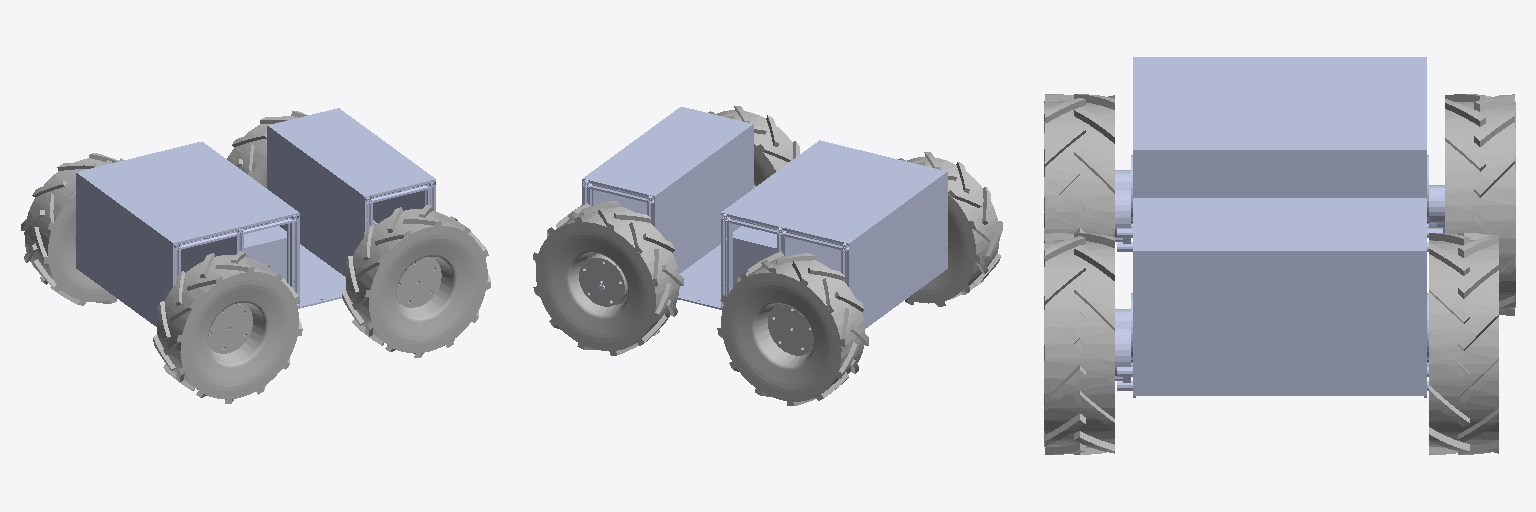
robot.urdf — ROVER_1000_WATT_VARIANT.SLDASM:
<?xml version="1.0" encoding="utf-8"?>
<!-- This URDF was automatically created by SolidWorks to URDF Exporter! Originally created by Stephen Brawner (brawner@gmail.com) 
     Commit Version: 1.6.0-4-g7f85cfe  Build Version: 1.6.7995.38578
     For more information, please see http://wiki.ros.org/sw_urdf_exporter -->
<robot
  name="ROVER_1000_WATT_VARIANT.SLDASM">
  <link
    name="base_link">
    <inertial>
      <origin
        xyz="0.015653 -0.00010987 0.10818"
        rpy="0 0 0" />
      <mass
        value="37.356" />
      <inertia
        ixx="0.32771"
        ixy="-0.00081538"
        ixz="3.24E-06"
        iyy="0.31465"
        iyz="-5.0701E-05"
        izz="0.57188" />
    </inertial>
    <visual>
      <origin
        xyz="0 0 0"
        rpy="0 0 0" />
      <geometry>
        <mesh
          filename="package://ROVER_1000_WATT_VARIANT.SLDASM/meshes/base_link.STL" />
      </geometry>
      <material
        name="">
        <color
          rgba="0.79216 0.81961 0.93333 1" />
      </material>
    </visual>
    <collision>
      <origin
        xyz="0 0 0"
        rpy="0 0 0" />
      <geometry>
        <mesh
          filename="package://ROVER_1000_WATT_VARIANT.SLDASM/meshes/base_link.STL" />
      </geometry>
    </collision>
  </link>
  <link
    name="link_back_left">
    <inertial>
      <origin
        xyz="-5.0352E-06 -0.0024212 6.385E-06"
        rpy="0 0 0" />
      <mass
        value="5.0741" />
      <inertia
        ixx="0.036669"
        ixy="-2.5769E-07"
        ixz="-1.9301E-07"
        iyy="0.066215"
        iyz="3.2639E-07"
        izz="0.036669" />
    </inertial>
    <visual>
      <origin
        xyz="0 0 0"
        rpy="0 0 0" />
      <geometry>
        <mesh
          filename="package://ROVER_1000_WATT_VARIANT.SLDASM/meshes/link_back_left.STL" />
      </geometry>
      <material
        name="">
        <color
          rgba="0.75294 0.75294 0.75294 1" />
      </material>
    </visual>
    <collision>
      <origin
        xyz="0 0 0"
        rpy="0 0 0" />
      <geometry>
        <mesh
          filename="package://ROVER_1000_WATT_VARIANT.SLDASM/meshes/link_back_left.STL" />
      </geometry>
    </collision>
  </link>
  <joint
    name="joint_back_left"
    type="continuous">
    <origin
      xyz="-0.25156 0.30851 0.037363"
      rpy="0 0 0" />
    <parent
      link="base_link" />
    <child
      link="link_back_left" />
    <axis
      xyz="0 1 0" />
  </joint>
  <link
    name="link_back_right">
    <inertial>
      <origin
        xyz="8.1206E-06 0.0024212 4.2036E-07"
        rpy="0 0 0" />
      <mass
        value="5.0741" />
      <inertia
        ixx="0.036669"
        ixy="-4.1531E-07"
        ixz="1.718E-08"
        iyy="0.066215"
        iyz="-2.1256E-08"
        izz="0.036669" />
    </inertial>
    <visual>
      <origin
        xyz="0 0 0"
        rpy="0 0 0" />
      <geometry>
        <mesh
          filename="package://ROVER_1000_WATT_VARIANT.SLDASM/meshes/link_back_right.STL" />
      </geometry>
      <material
        name="">
        <color
          rgba="0.75294 0.75294 0.75294 1" />
      </material>
    </visual>
    <collision>
      <origin
        xyz="0 0 0"
        rpy="0 0 0" />
      <geometry>
        <mesh
          filename="package://ROVER_1000_WATT_VARIANT.SLDASM/meshes/link_back_right.STL" />
      </geometry>
    </collision>
  </link>
  <joint
    name="joint_back_right"
    type="continuous">
    <origin
      xyz="-0.25156 -0.30851 0.037363"
      rpy="0 0 0" />
    <parent
      link="base_link" />
    <child
      link="link_back_right" />
    <axis
      xyz="0 1 0" />
  </joint>
  <link
    name="link_front_right">
    <inertial>
      <origin
        xyz="3.603E-06 0.0024212 7.2897E-06"
        rpy="0 0 0" />
      <mass
        value="5.0741" />
      <inertia
        ixx="0.036669"
        ixy="-1.8448E-07"
        ixz="1.5903E-07"
        iyy="0.066215"
        iyz="-3.7269E-07"
        izz="0.036669" />
    </inertial>
    <visual>
      <origin
        xyz="0 0 0"
        rpy="0 0 0" />
      <geometry>
        <mesh
          filename="package://ROVER_1000_WATT_VARIANT.SLDASM/meshes/link_front_right.STL" />
      </geometry>
      <material
        name="">
        <color
          rgba="0.75294 0.75294 0.75294 1" />
      </material>
    </visual>
    <collision>
      <origin
        xyz="0 0 0"
        rpy="0 0 0" />
      <geometry>
        <mesh
          filename="package://ROVER_1000_WATT_VARIANT.SLDASM/meshes/link_front_right.STL" />
      </geometry>
    </collision>
  </link>
  <joint
    name="joint_front_right"
    type="continuous">
    <origin
      xyz="0.2515 -0.30851 0.037363"
      rpy="0 0 0" />
    <parent
      link="base_link" />
    <child
      link="link_front_right" />
    <axis
      xyz="0 1 0" />
  </joint>
  <link
    name="link_front_left">
    <inertial>
      <origin
        xyz="-8.0762E-06 -0.0024212 9.4689E-07"
        rpy="0 0 0" />
      <mass
        value="5.0741" />
      <inertia
        ixx="0.036669"
        ixy="-4.1305E-07"
        ixz="-4.2569E-08"
        iyy="0.066215"
        iyz="4.8185E-08"
        izz="0.036669" />
    </inertial>
    <visual>
      <origin
        xyz="0 0 0"
        rpy="0 0 0" />
      <geometry>
        <mesh
          filename="package://ROVER_1000_WATT_VARIANT.SLDASM/meshes/link_front_left.STL" />
      </geometry>
      <material
        name="">
        <color
          rgba="0.75294 0.75294 0.75294 1" />
      </material>
    </visual>
    <collision>
      <origin
        xyz="0 0 0"
        rpy="0 0 0" />
      <geometry>
        <mesh
          filename="package://ROVER_1000_WATT_VARIANT.SLDASM/meshes/link_front_left.STL" />
      </geometry>
    </collision>
  </link>
  <joint
    name="joint_front_left"
    type="continuous">
    <origin
      xyz="0.2515 0.30851 0.037363"
      rpy="0 0 0" />
    <parent
      link="base_link" />
    <child
      link="link_front_left" />
    <axis
      xyz="0 1 0" />
  </joint>
</robot>

--- What the picture shows (computed from the rendered views, not written in the file) ---
The picture shows the robot from 3 angles, left to right: view 1: azimuth 30°, elevation 25°; view 2: azimuth 150°, elevation 25°; view 3: azimuth 270°, elevation 25°; orthographic projection.
Robot: ROVER_1000_WATT_VARIANT.SLDASM — 5 links, 4 joints (4 continuous); root link base_link; default pose: all joints at 0.
Links seen in each view (by area): view 1: base_link, link_front_right, link_back_right, link_back_left, link_front_left; view 2: base_link, link_back_left, link_front_left, link_back_right, link_front_right; view 3: base_link, link_front_right, link_front_left, link_back_left, link_back_right.
Link boxes in pixels (x1,y1,x2,y2): base_link: (76, 108, 435, 328); link_front_right: (342, 205, 490, 357); link_back_right: (153, 251, 302, 403); link_back_left: (21, 153, 123, 305); link_front_left: (227, 111, 307, 187); base_link: (582, 107, 947, 329); link_back_left: (717, 251, 868, 405); link_front_left: (533, 201, 683, 355); link_back_right: (898, 152, 1002, 306); link_front_right: (708, 106, 799, 187); base_link: (1115, 57, 1444, 397); link_front_right: (1044, 233, 1114, 454); link_front_left: (1429, 233, 1498, 454); link_back_left: (1445, 94, 1515, 315); link_back_right: (1044, 94, 1114, 240).
Bounding box of the posed robot: 0.8428 × 0.7215 × 0.3735 m (x, y, z).
Meshes: 5 distinct files referenced, 5 mesh visuals loaded (5 binary STL).
